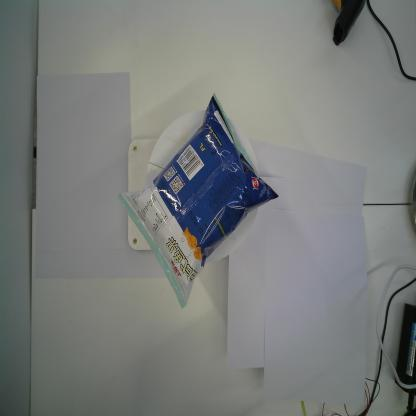Puffed Food: (116, 92, 279, 310)
